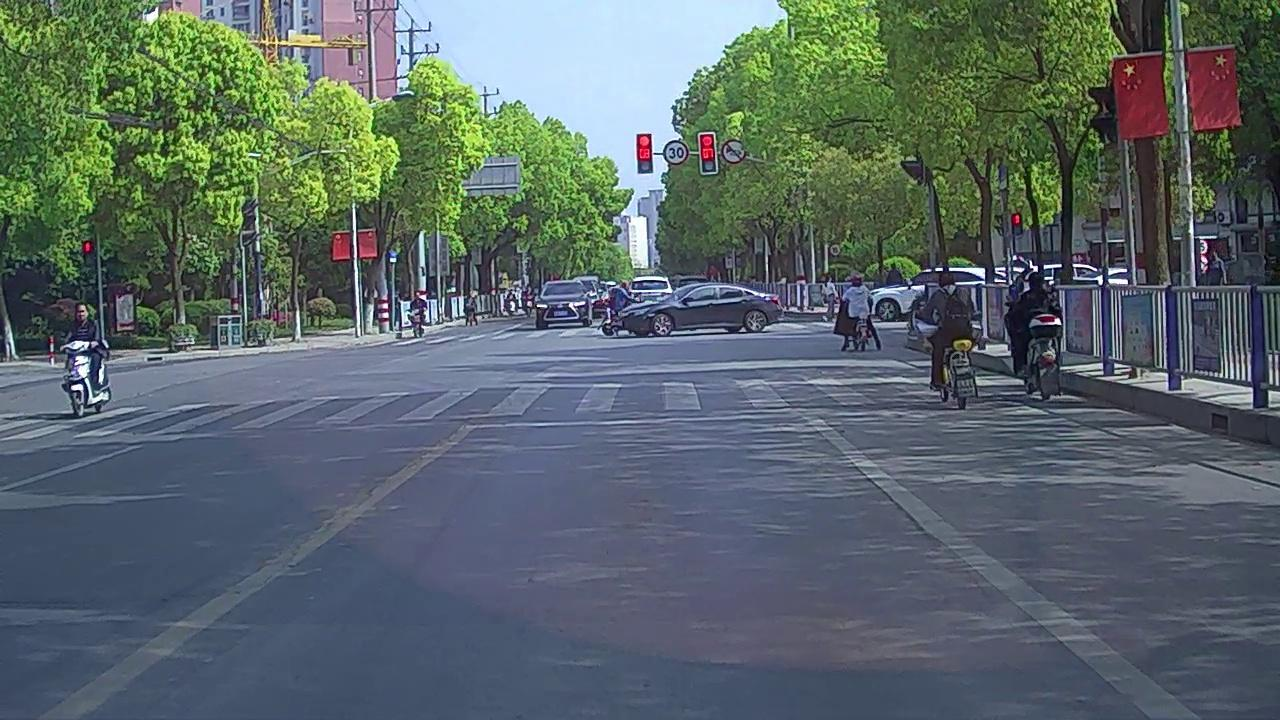traffic_light: (699, 133, 716, 174), (638, 134, 653, 173)
